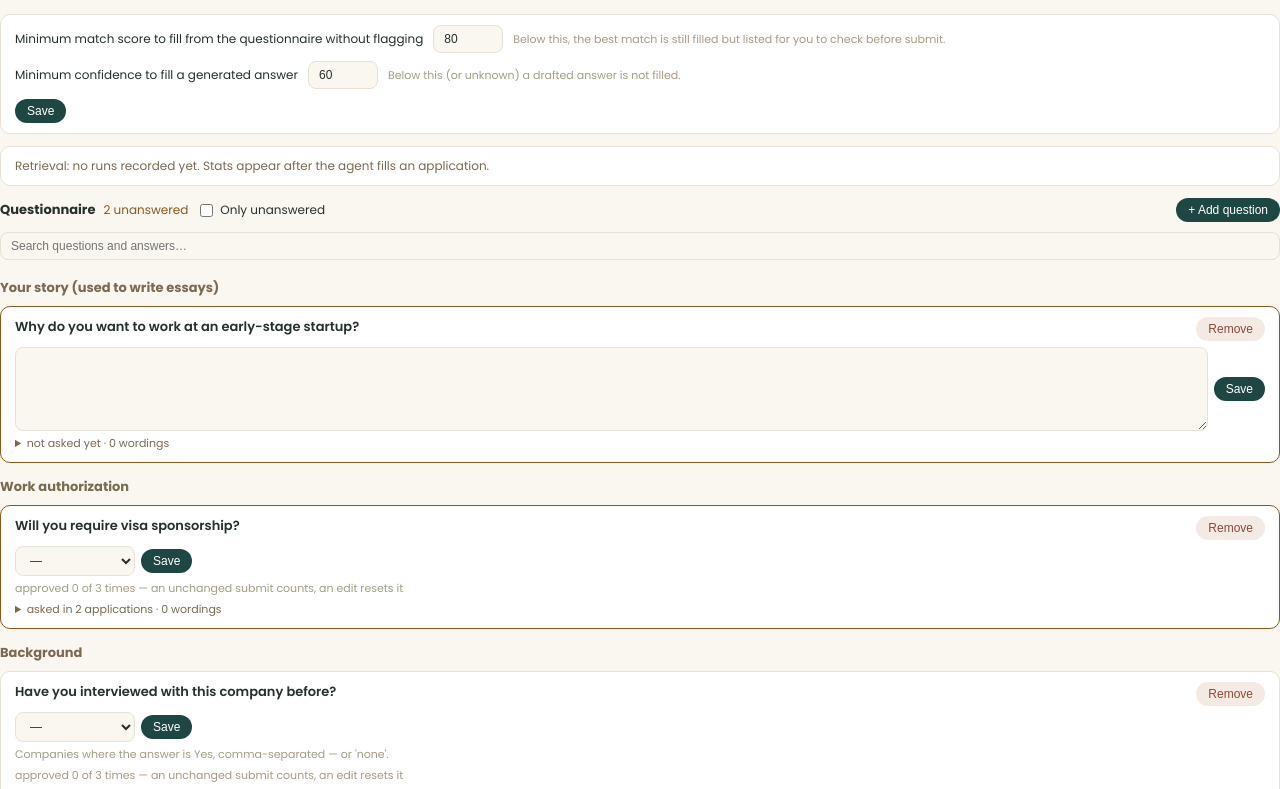
Test: only-unanswered hides answered and profile entries
Step 1. Click the checkbox labelled "Only unanswered" → (207,210), box [200, 204, 213, 216]
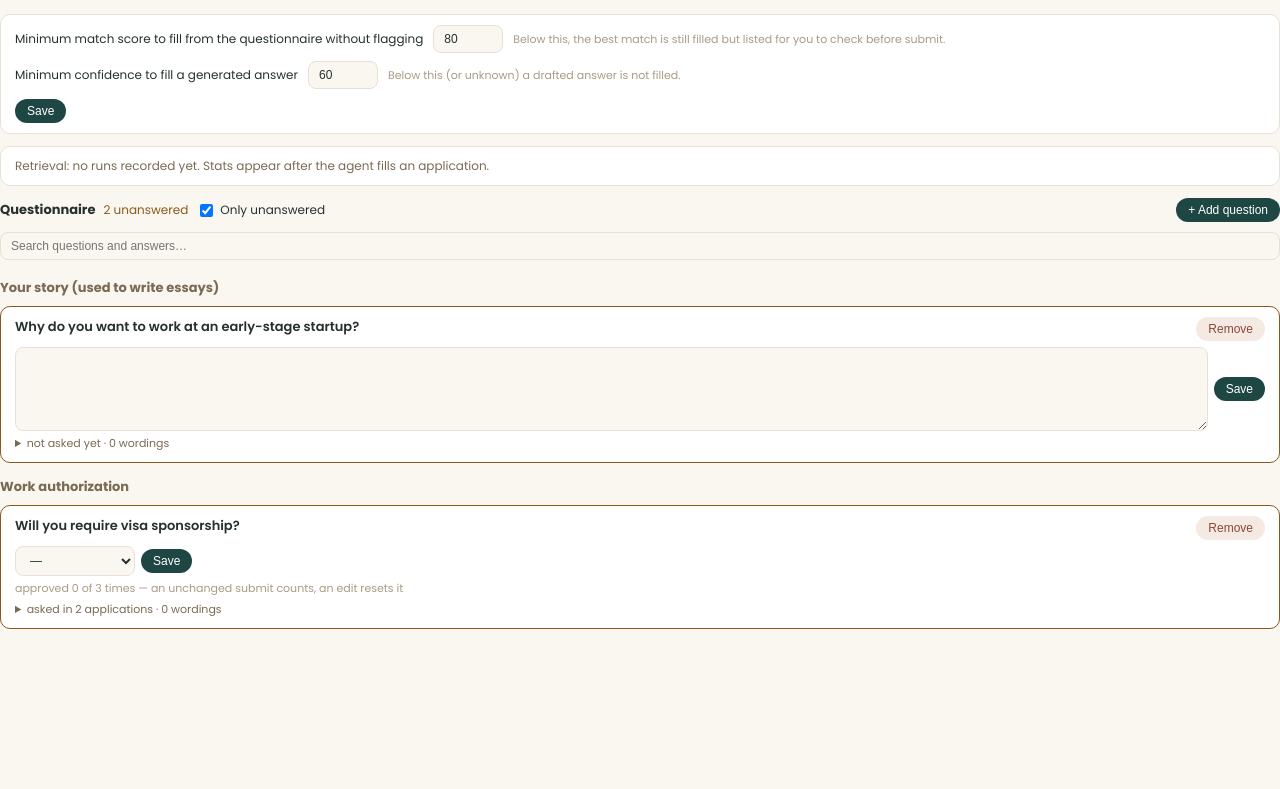
Expected: the text "Will you require visa sponsorship?" is shown, [15, 516, 240, 540]
Expected: the text "Have you interviewed with this company before?" is gone
